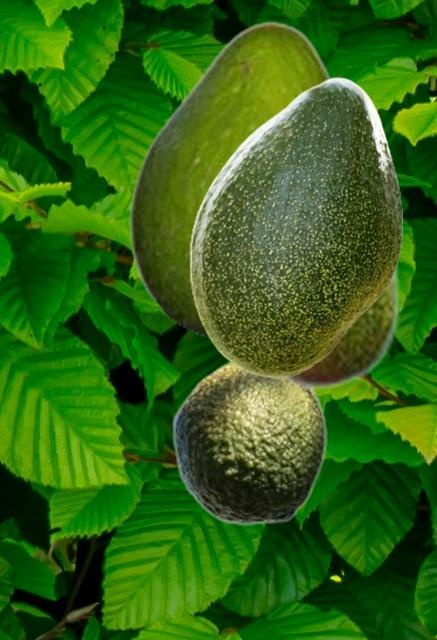avocado: (128, 20, 335, 339), (189, 77, 401, 377), (271, 93, 400, 391), (171, 361, 326, 524)
